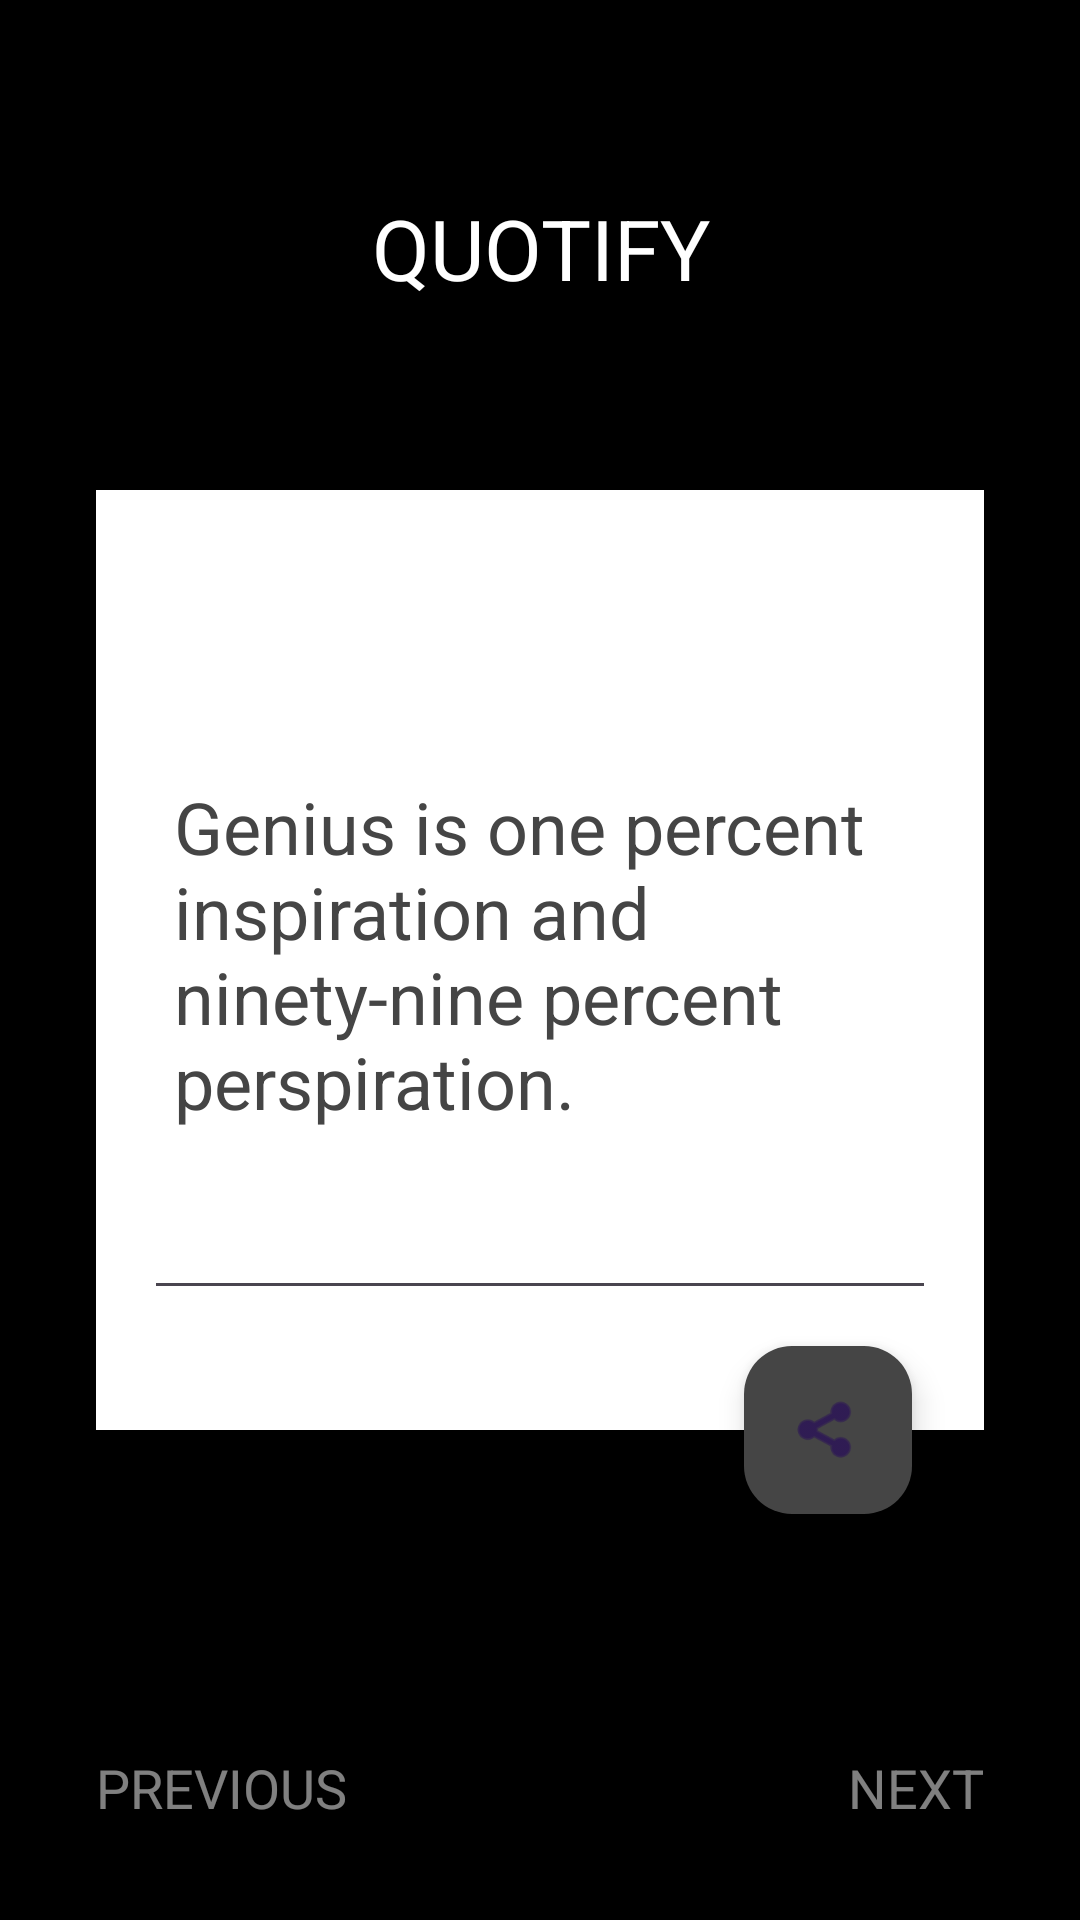

Icon click points for this 1080px×1920px phone screenshot, format (x=x, y=y):
share: (x=828, y=1430)
